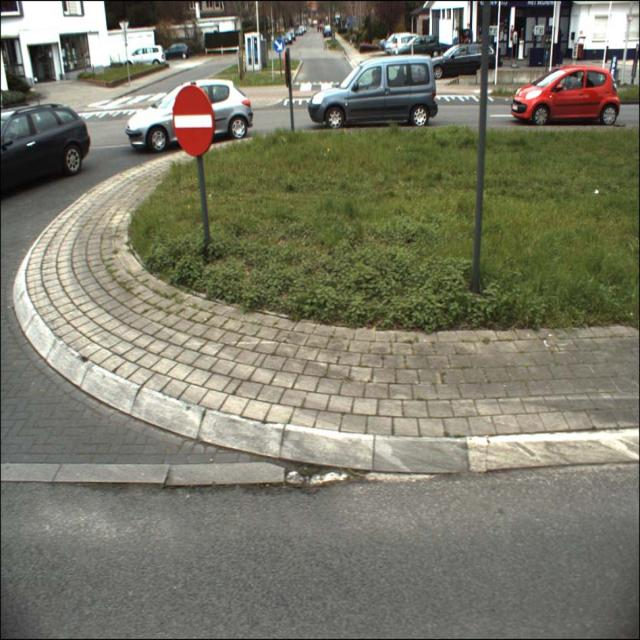girisyok: (173, 86, 216, 158)
